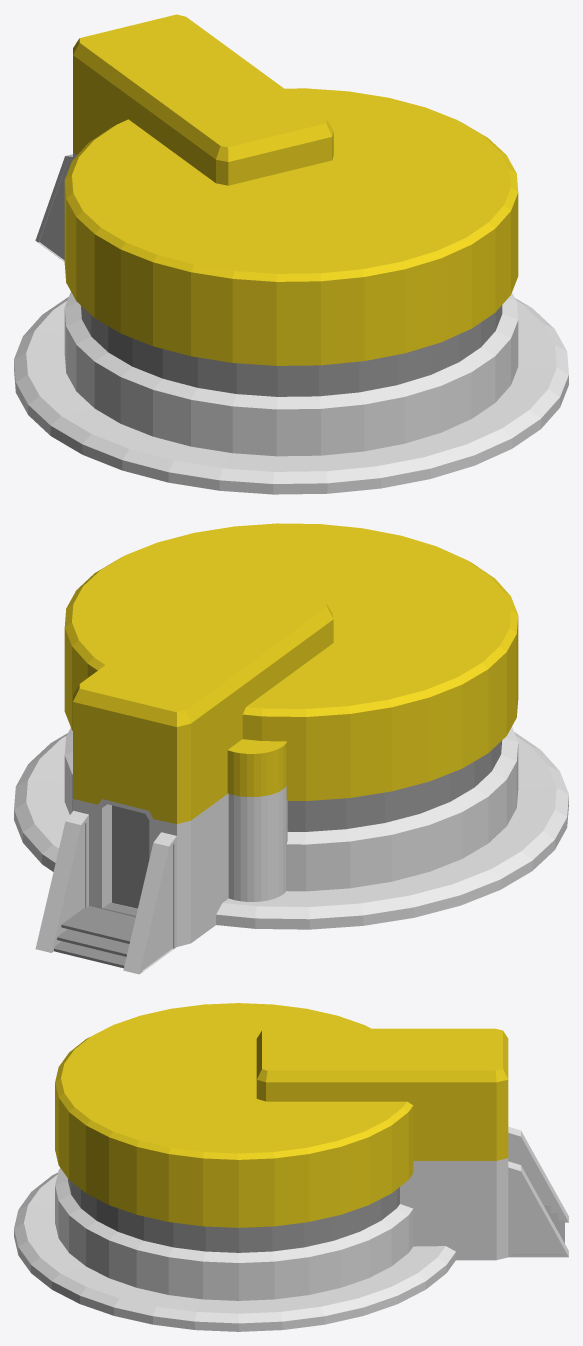
The model's file is Generic_Building.fbx.
3 renders of one model, top to bottom at view 1: azimuth 30°, elevation 25°; view 2: azimuth 150°, elevation 25°; view 3: azimuth 270°, elevation 25°, orthographic. The views are drawn at different scales.
Parts seen in each view (by area): view 1: Cylinder.003; view 2: Cylinder.003; view 3: Cylinder.003.
Part boxes in pixels (x1=…): Cylinder.003: x1=14, y1=14, x2=568, y2=494; Cylinder.003: x1=14, y1=523, x2=568, y2=974; Cylinder.003: x1=14, y1=1003, x2=568, y2=1331.
Bounding box in the file's own units: 875 × 402 × 1080.
